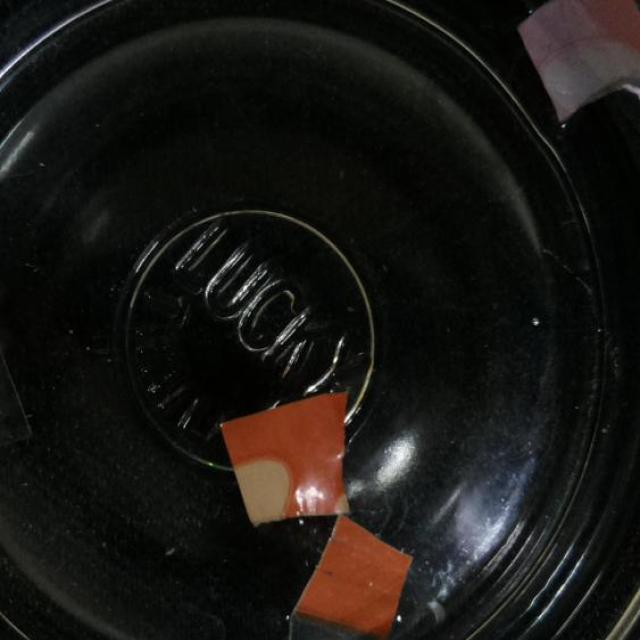fiber: (217, 387, 356, 516), (287, 518, 425, 633), (503, 0, 639, 116)
